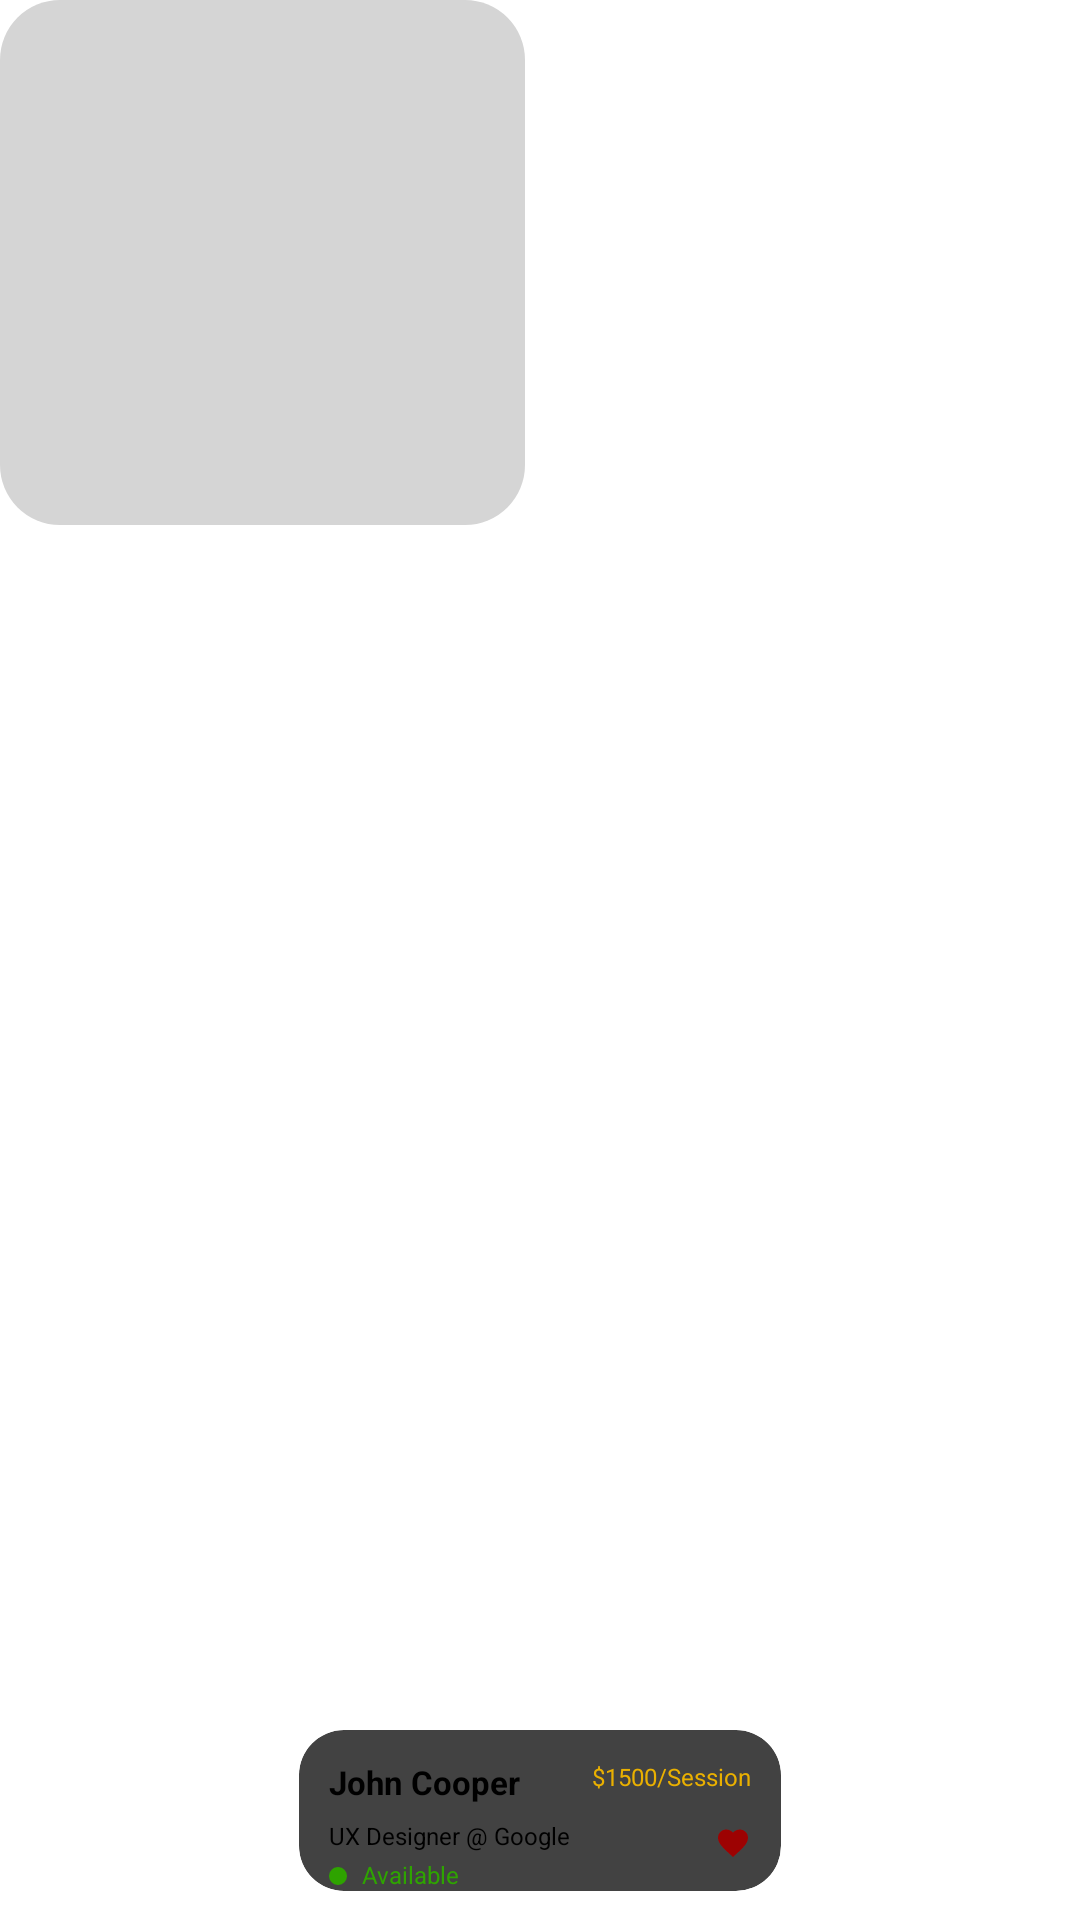

Named icons in this screenshot (1080x1920) and their bounding boxes, (x1, y1, x2, y2):
favorite: (718, 1829, 748, 1857)
